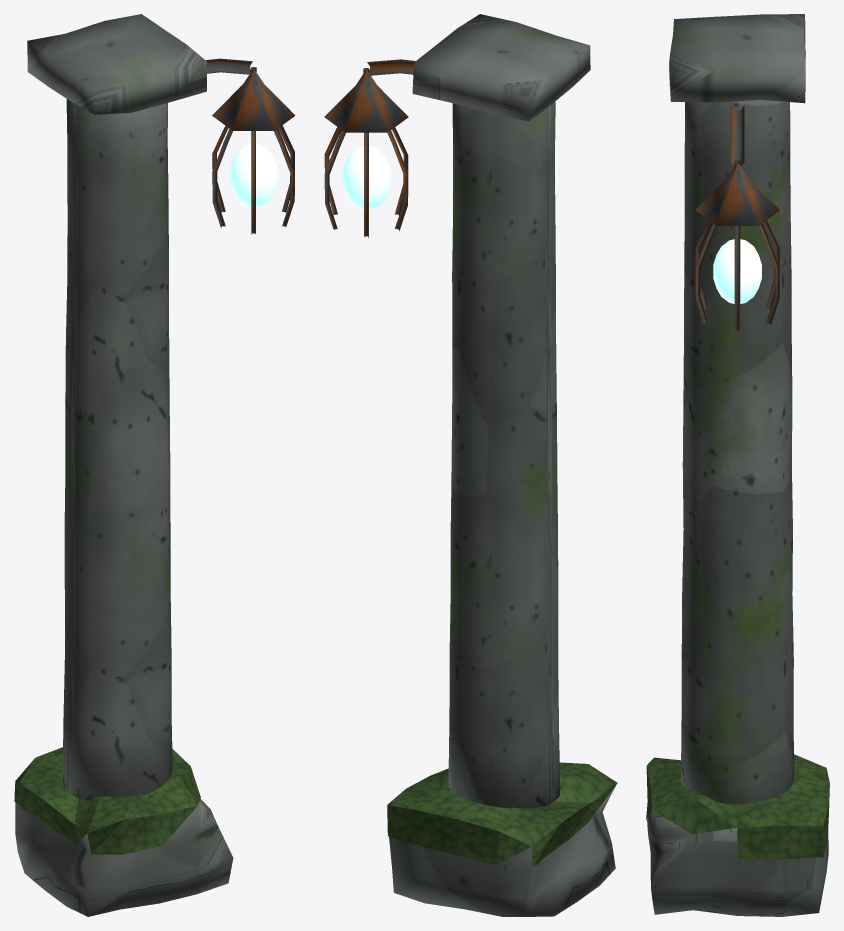
The model's file is ancient_lantern_post.glb.
3 renders of one model, left to right at view 1: azimuth 30°, elevation 25°; view 2: azimuth 150°, elevation 25°; view 3: azimuth 270°, elevation 25°, orthographic. The views are drawn at different scales.
Visible parts, largest first — view 1: ancient_lantern_post__stone_block, ancient_lantern_post__moss, ancient_lantern_post__iron, ancient_lantern_post__glow_core; view 2: ancient_lantern_post__stone_block, ancient_lantern_post__moss, ancient_lantern_post__iron, ancient_lantern_post__glow_core; view 3: ancient_lantern_post__stone_block, ancient_lantern_post__moss, ancient_lantern_post__iron, ancient_lantern_post__glow_core.
Part boxes in pixels (bbox=[...]): ancient_lantern_post__stone_block: bbox=[15, 14, 233, 916]; ancient_lantern_post__moss: bbox=[14, 747, 200, 854]; ancient_lantern_post__iron: bbox=[205, 58, 295, 234]; ancient_lantern_post__glow_core: bbox=[229, 143, 277, 207]; ancient_lantern_post__stone_block: bbox=[389, 14, 615, 916]; ancient_lantern_post__moss: bbox=[387, 762, 617, 866]; ancient_lantern_post__iron: bbox=[324, 59, 415, 237]; ancient_lantern_post__glow_core: bbox=[342, 145, 391, 210]; ancient_lantern_post__stone_block: bbox=[647, 14, 828, 916]; ancient_lantern_post__moss: bbox=[646, 754, 829, 859]; ancient_lantern_post__iron: bbox=[695, 105, 780, 331]; ancient_lantern_post__glow_core: bbox=[713, 239, 761, 303].
Size of the model in its own units: 0.8385 by 2.63 by 0.516.
4 materials, 3 textured.
